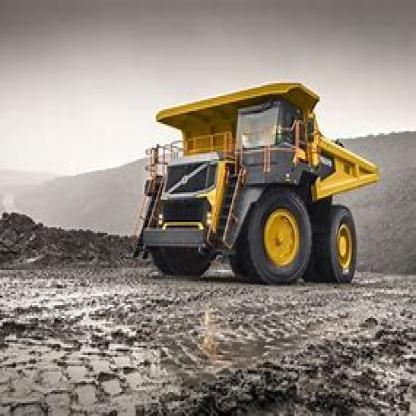dump_truck: (127, 78, 387, 290)
